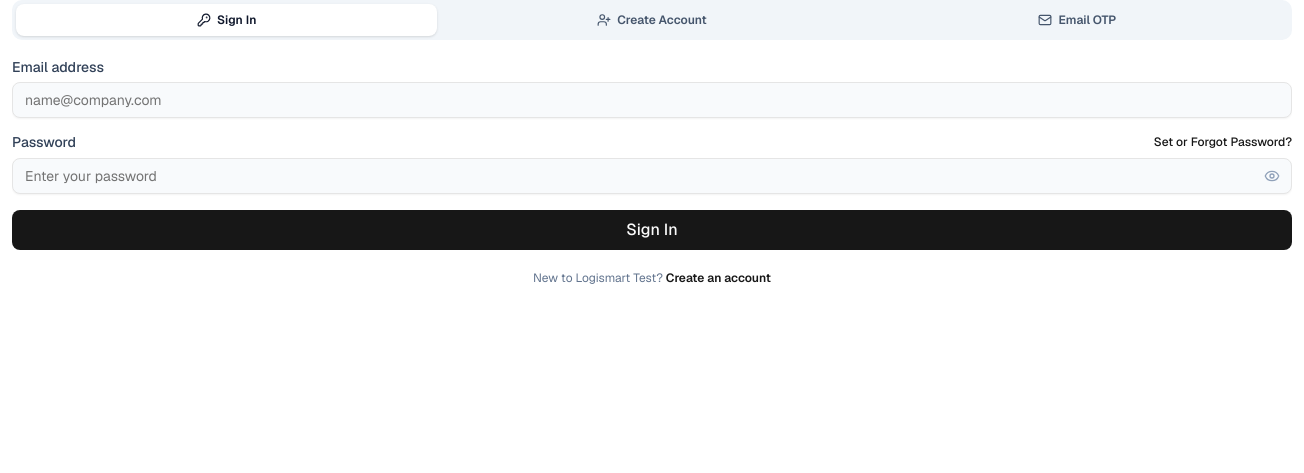
Test: LoginForm signup consent (C-08) › rejects passwords shorter than 8 characters (B-05)
The image size is (1304, 473).
Step 1. Click the tab with test id "tab-signup" → (652, 20), box [441,4,863,36]
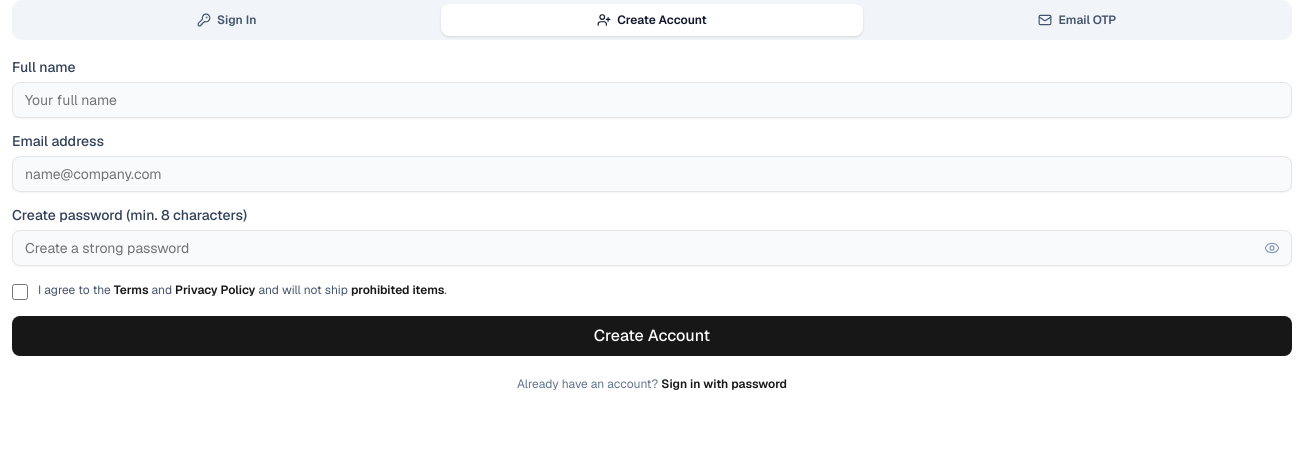
Step 2. Type "new@seller.in" into the field labelled "Email address" → (652, 174), box [12,156,1292,192]
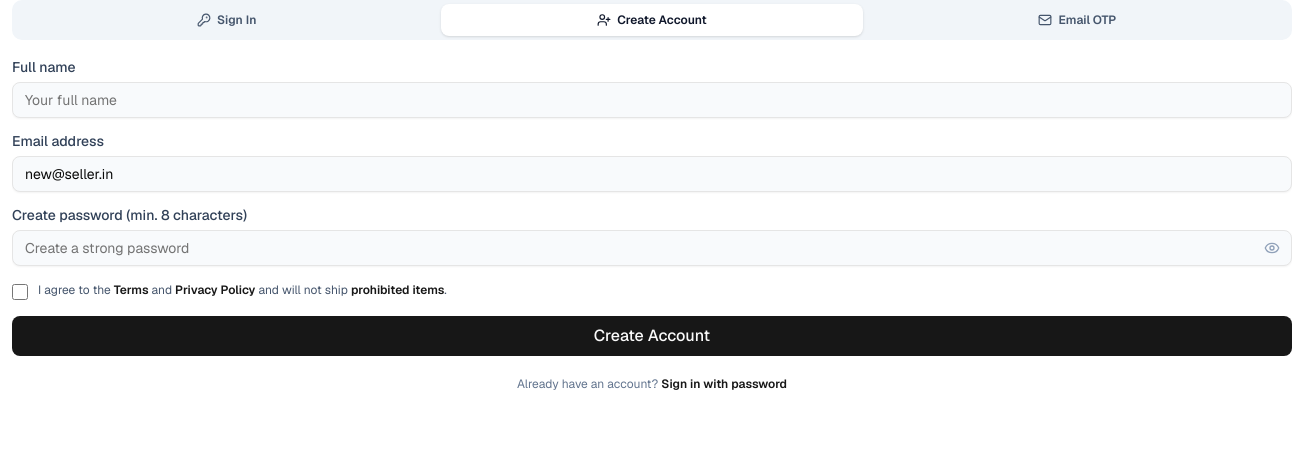
Step 3. Type "Secret-123" into the password field labelled "Create password (min. 8 characters)" → (652, 248), box [12,230,1292,266]
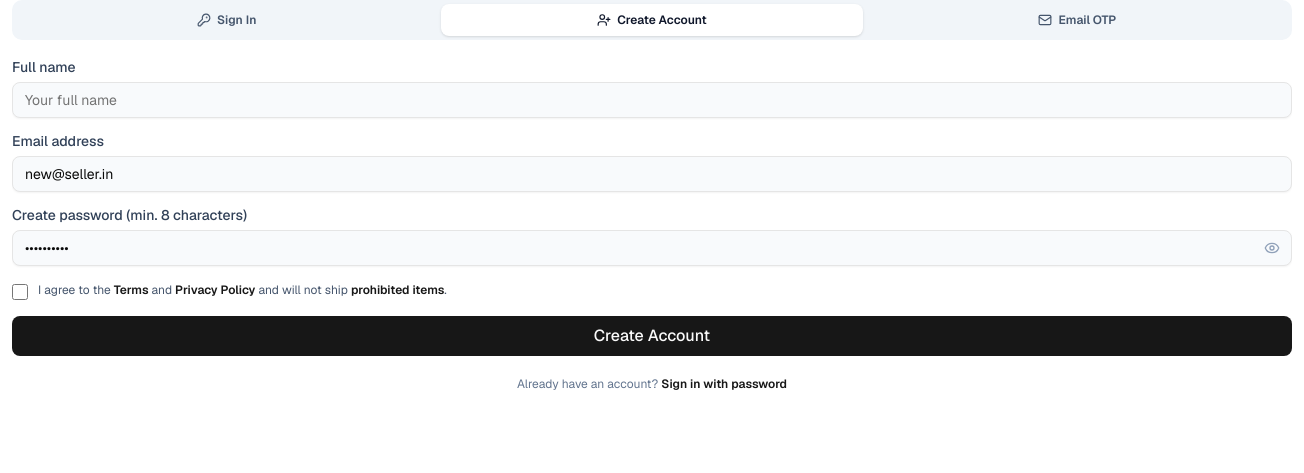
Step 4. Type "short77" into the password field labelled "Create password (min. 8 characters)" → (652, 248), box [12,230,1292,266]
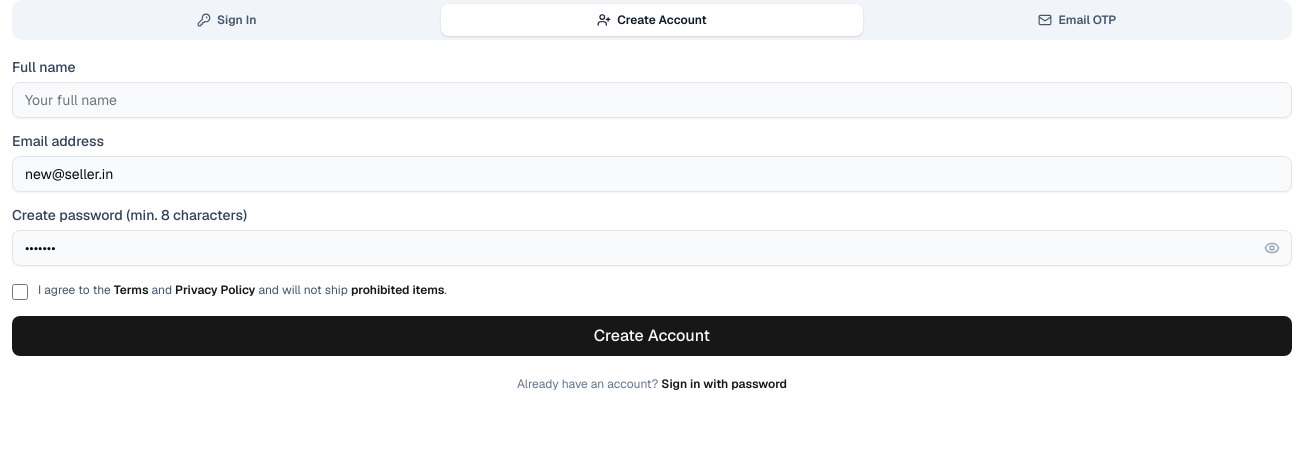
Step 5. Click the checkbox with test id "signup-terms-checkbox" → (20, 292), box [12,284,28,300]
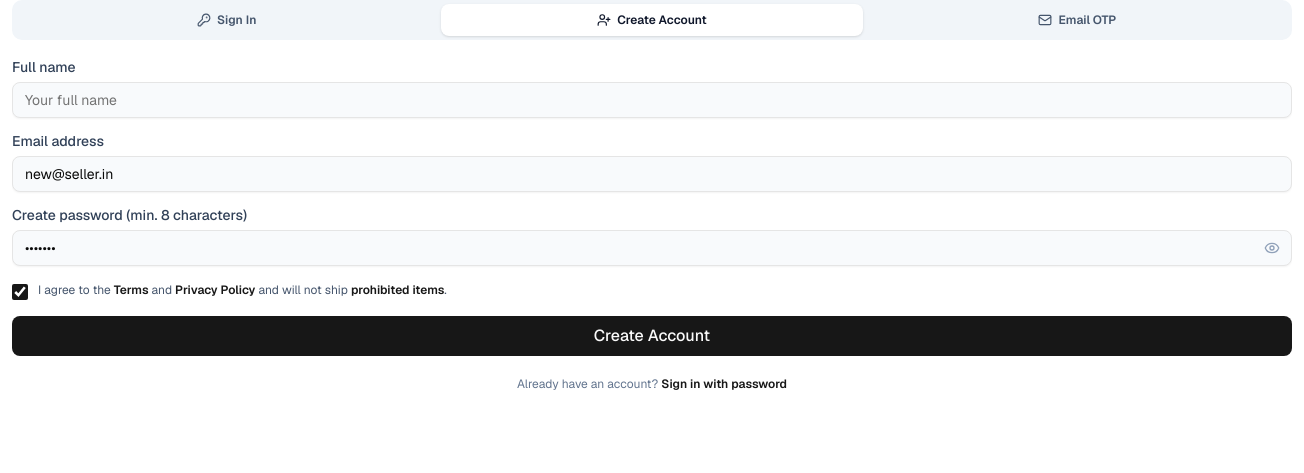
Step 6. Submit the form with test id "submit-create-account"
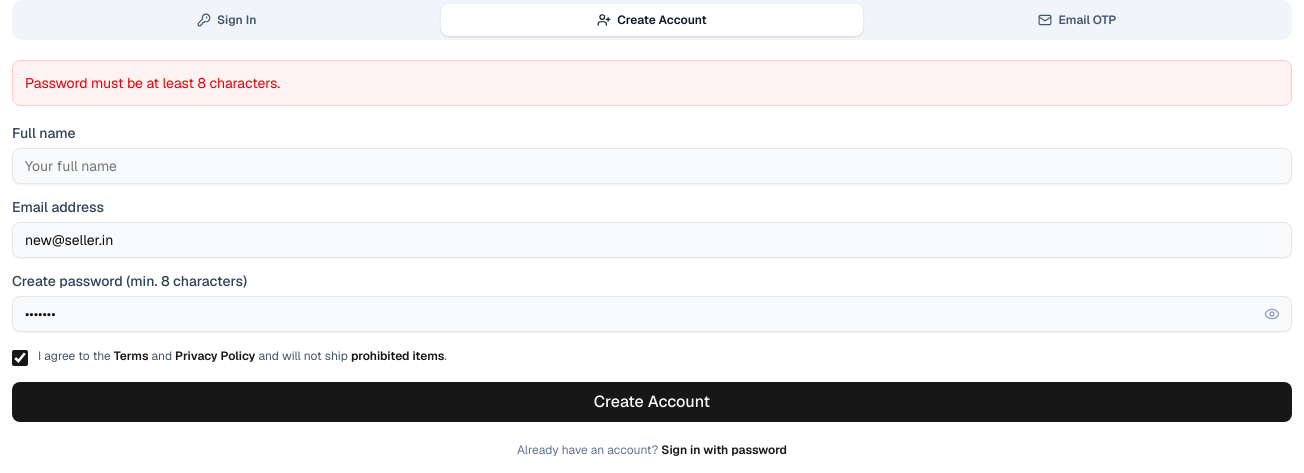
Expected: the text "Password must be at least 8 characters." is shown, [12,60,1292,106]
